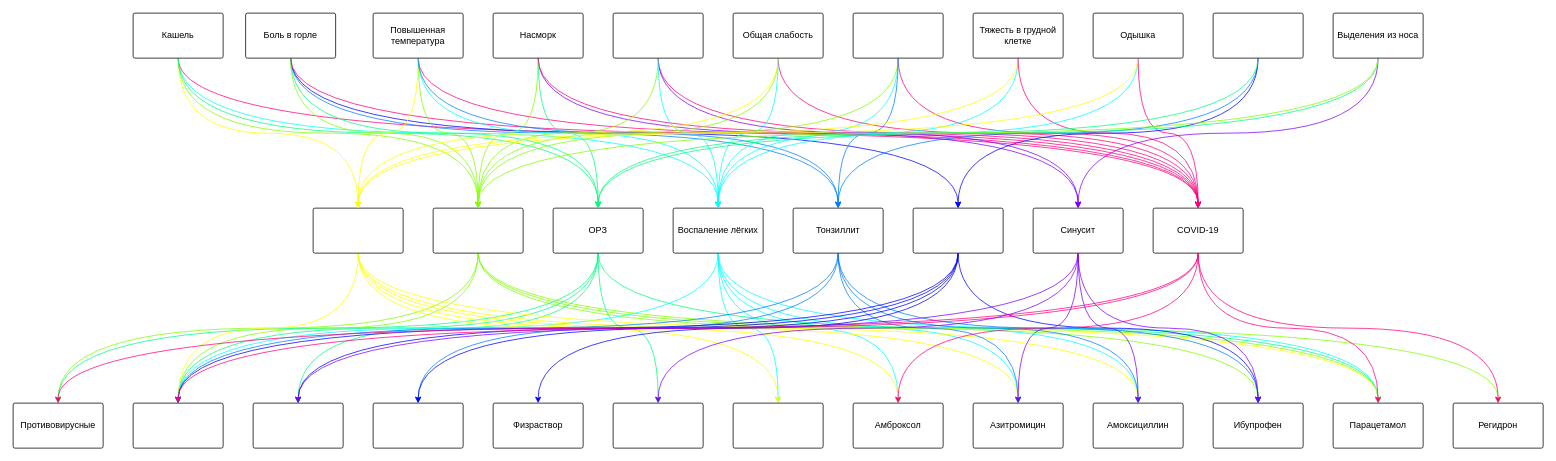
This 1556x461 diagram has some shape labels left out. Each missing label, with the box of its shape:
Антигистаминные: (252, 402, 343, 448)
Боль при глотании: (1212, 12, 1303, 58)
Бромгексин: (732, 402, 823, 448)
Бронхит: (312, 207, 403, 253)
Витамин C: (132, 402, 223, 448)
Головная боль: (612, 12, 703, 58)
Грипп: (432, 207, 523, 253)
Озноб: (852, 12, 943, 58)
Оксиметазолин: (612, 402, 703, 448)
Фарингит: (912, 207, 1003, 253)
Хлоргексидин: (372, 402, 463, 448)
